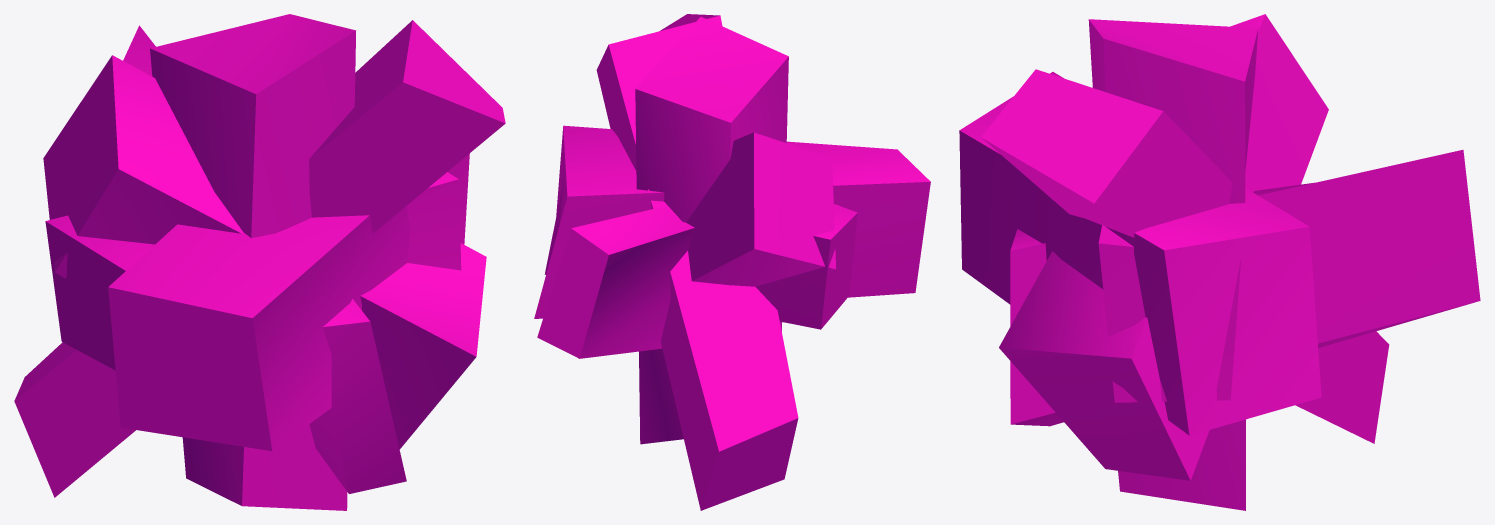
File: silicon-crystalized.glb
The picture shows the model from 3 angles, left to right: view 1: azimuth 30°, elevation 25°; view 2: azimuth 150°, elevation 25°; view 3: azimuth 270°, elevation 25°; orthographic projection. The views are drawn at different scales.
Visible parts, largest first — view 1: Cube.006; view 2: Cube.006; view 3: Cube.006.
Boxes of the visible parts, x1=… form: Cube.006: x1=14, y1=14, x2=505, y2=510; Cube.006: x1=534, y1=14, x2=930, y2=510; Cube.006: x1=959, y1=14, x2=1480, y2=510.
Size of the model in its own units: 1.37 by 1.56 by 1.56.
